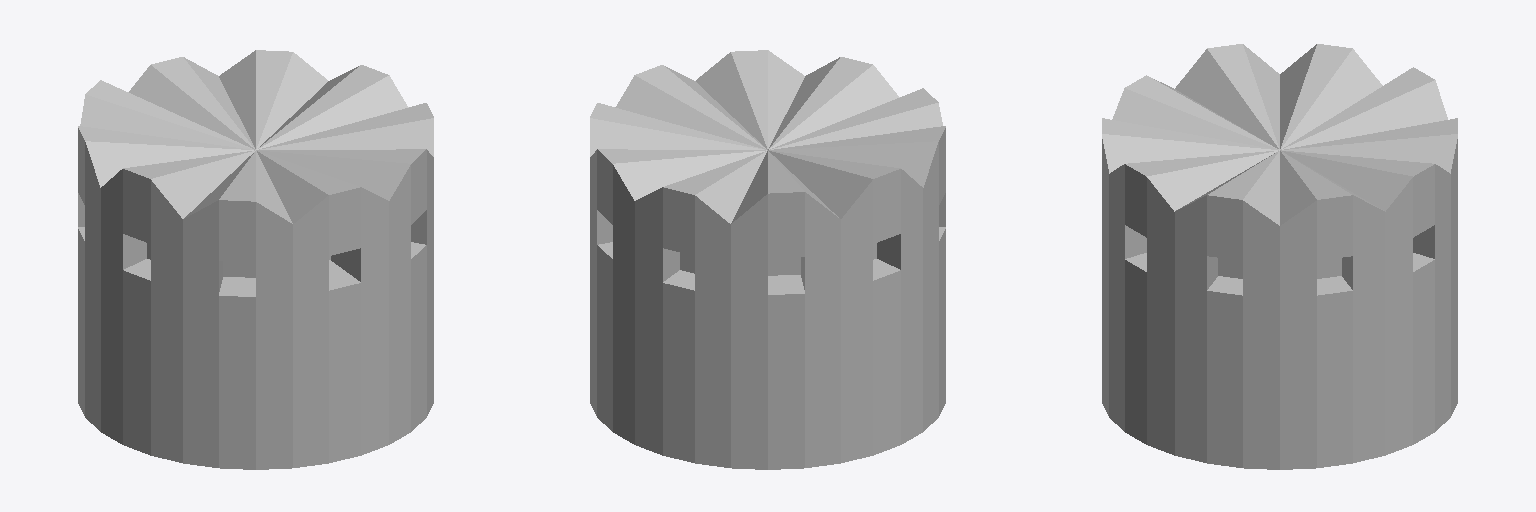
The model's file is Kula2.obj.
3 renders of one model, left to right at view 1: azimuth 30°, elevation 25°; view 2: azimuth 150°, elevation 25°; view 3: azimuth 270°, elevation 25°, orthographic.
Visible parts, largest first — view 1: Kula2; view 2: Kula2; view 3: Kula2.
Boxes of the visible parts, <box> form: Kula2: <box>78,50,433,469</box>; Kula2: <box>590,50,945,469</box>; Kula2: <box>1102,44,1457,469</box>.
Size of the model in its own units: 40 by 34 by 39.78.